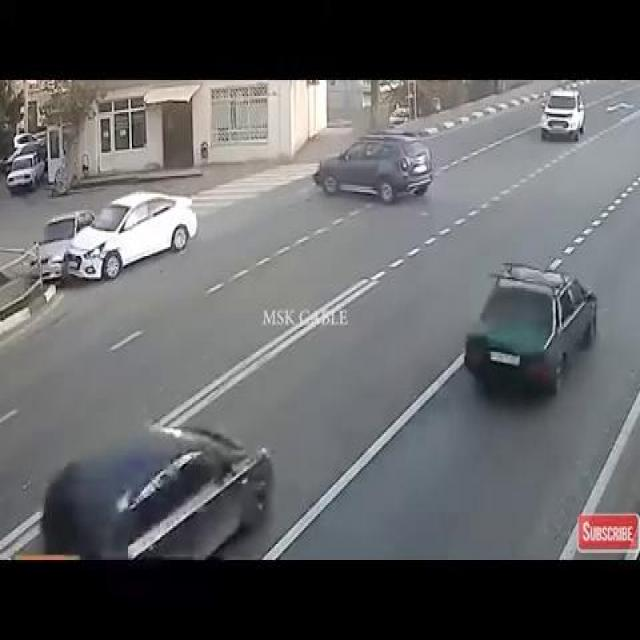accident: (25, 149, 195, 295)
